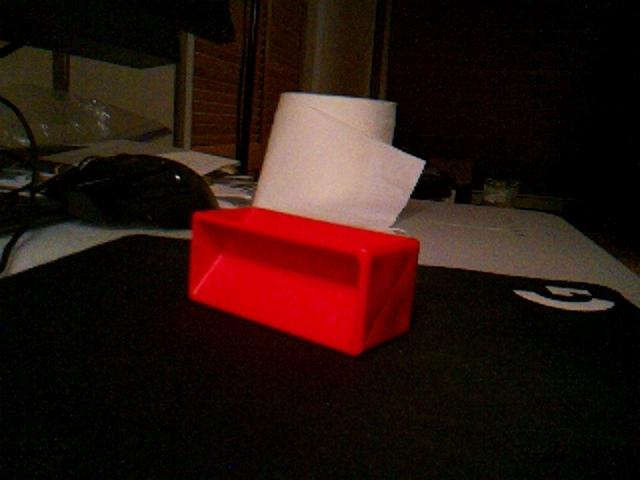red: (186, 205, 421, 357)
